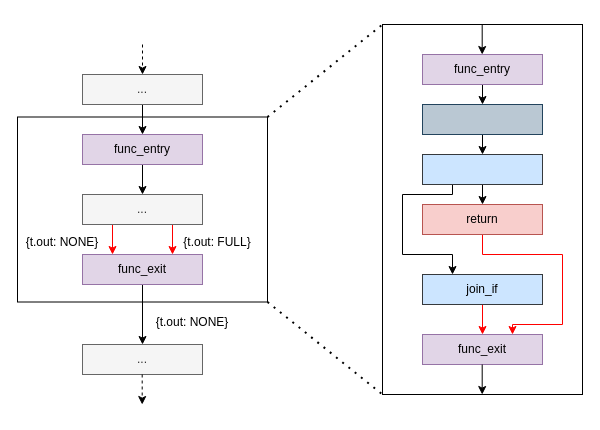
Image size: 600x430. Some labels were removed from this diagram. Each missing label, with the centre of its shape:
expression: the point at 482,119
if: the point at 482,169
